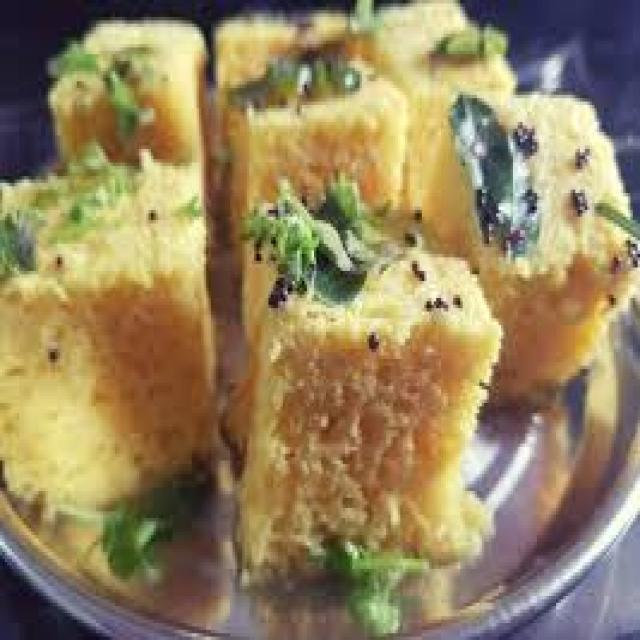DHOKLA: (229, 225, 509, 569), (2, 164, 223, 508), (421, 91, 638, 399), (217, 0, 526, 212), (51, 21, 228, 244)
